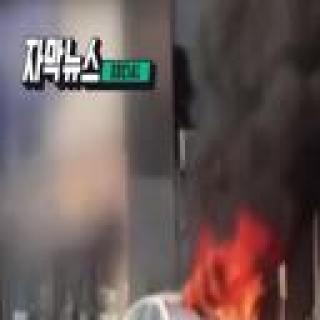fire: (193, 236, 261, 320)
